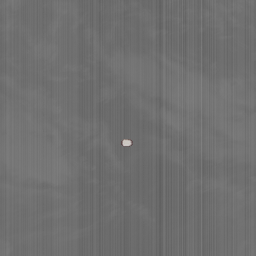Target: (120, 138, 134, 148)
